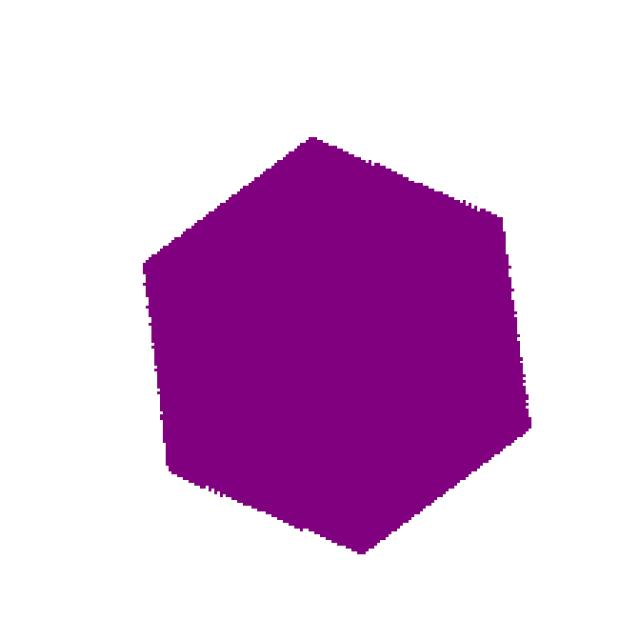Hexagon: (109, 129, 566, 567)
